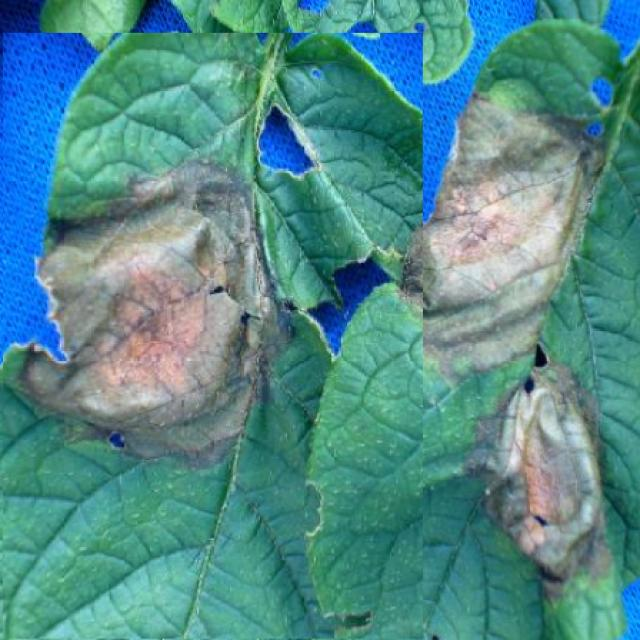Late Blight: (3, 34, 423, 639), (277, 18, 640, 640)
